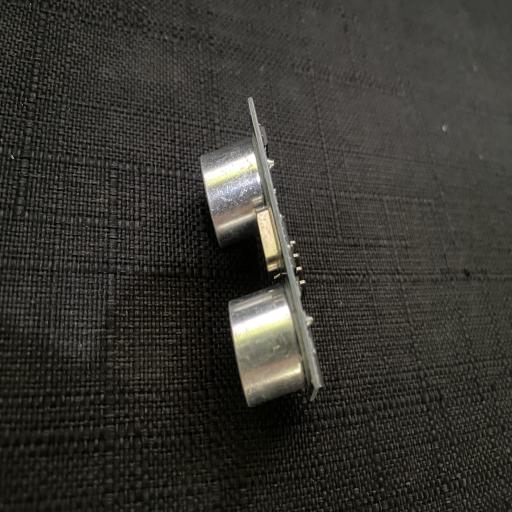Ultrasonic Sensor: (199, 96, 326, 411)
